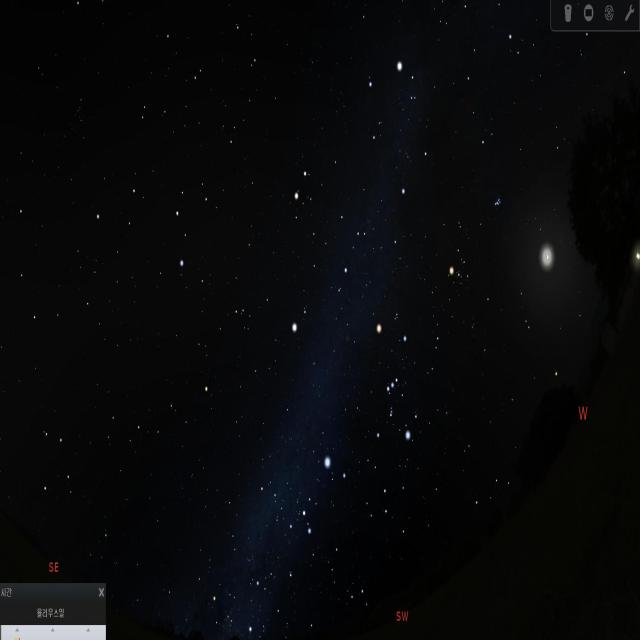canis_major: (293, 454, 353, 535)
canis_minor: (286, 296, 328, 356)
gemini: (286, 163, 382, 311)
leo: (82, 157, 210, 280)
moon: (528, 218, 566, 294)
orion: (371, 324, 417, 453)
pleiades: (492, 194, 504, 218)
taurus: (442, 186, 508, 300)
